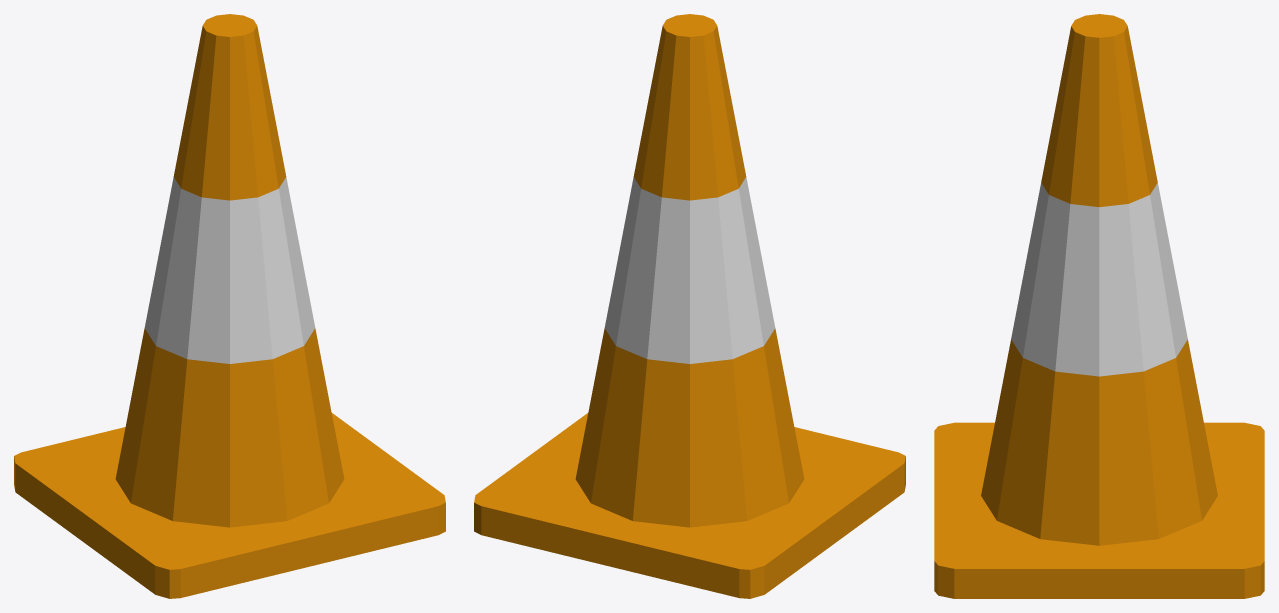
The picture shows the model from 3 angles, left to right: view 1: azimuth 30°, elevation 25°; view 2: azimuth 150°, elevation 25°; view 3: azimuth 270°, elevation 25°; orthographic projection. The views are drawn at different scales.
Parts seen in each view (by area): view 1: Plane; view 2: Plane; view 3: Plane.
Boxes of the visible parts, x1,y1,x2,y2 form: Plane: [14, 14, 445, 598]; Plane: [474, 14, 905, 598]; Plane: [934, 14, 1264, 598].
Size of the model in its own units: 1.41 by 1.35 by 2.25.
